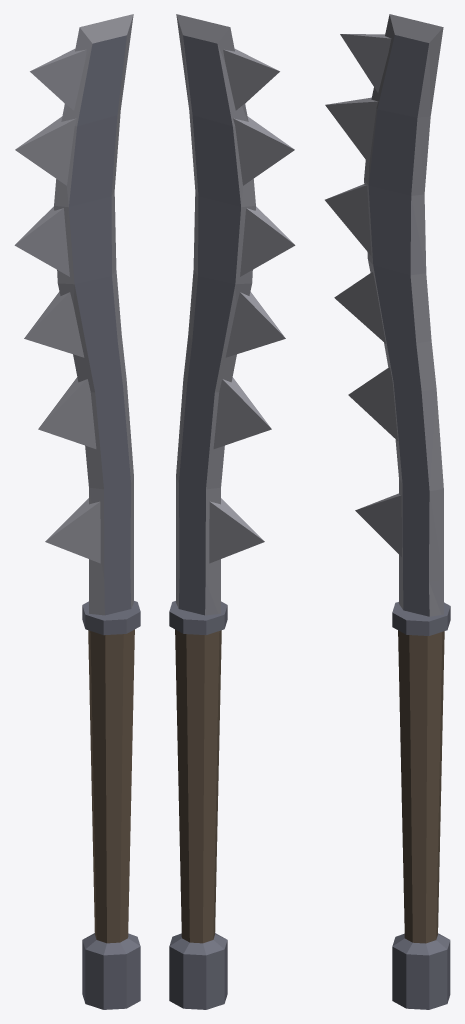
Rendered from _hammer_16.fbx.
The picture shows the model from 3 angles, left to right: view 1: azimuth 30°, elevation 25°; view 2: azimuth 150°, elevation 25°; view 3: azimuth 330°, elevation 25°; orthographic projection.
Parts seen in each view (by area): view 1: hammer_16; view 2: hammer_16; view 3: hammer_16.
Part boxes in pixels (x1,y1,x2,y2): hammer_16: (14,14,140,1009); hammer_16: (169,14,295,1009); hammer_16: (325,14,450,1009).
Bounding box in the file's own units: 11.43 × 86.65 × 4.85.
